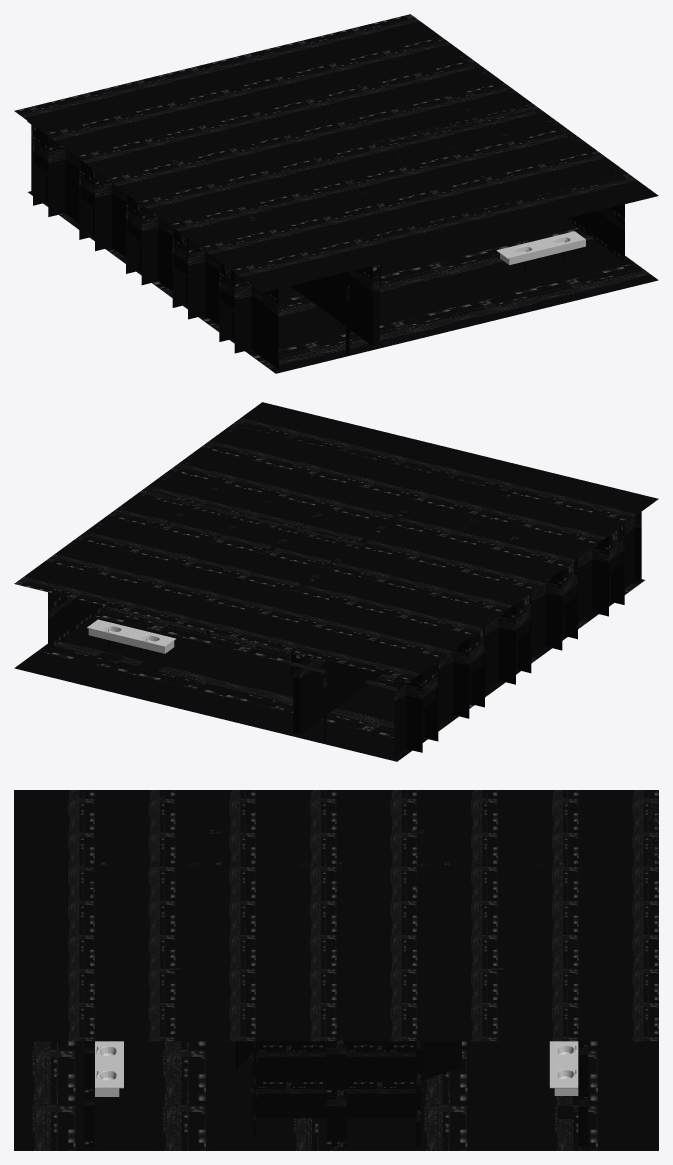
The model's file is room2toilets_opt.obj.
The picture shows the model from 3 angles, top to bottom: view 1: azimuth 30°, elevation 25°; view 2: azimuth 150°, elevation 25°; view 3: azimuth 270°, elevation 25°; orthographic projection. The views are drawn at different scales.
Bounding box in the file's own units: 1888 × 387 × 2048.
